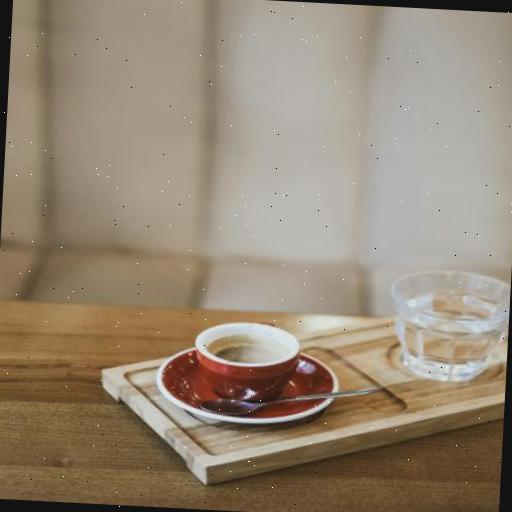cup: (192, 318, 304, 404)
